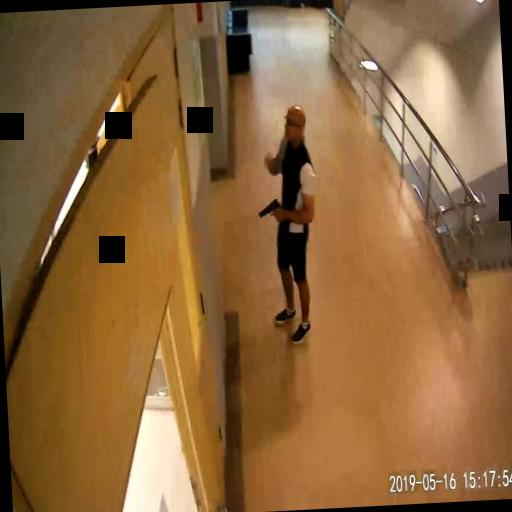Handgun: (257, 198, 280, 220)
